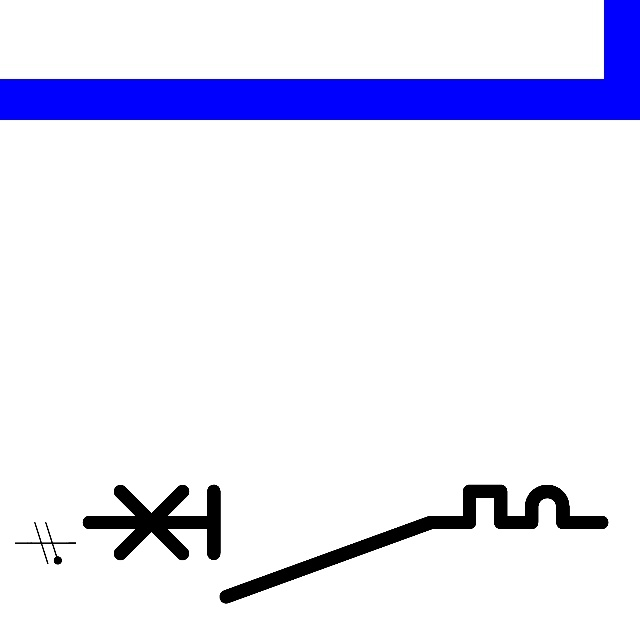interruptor_termomagnetico: (75, 478, 614, 610)
